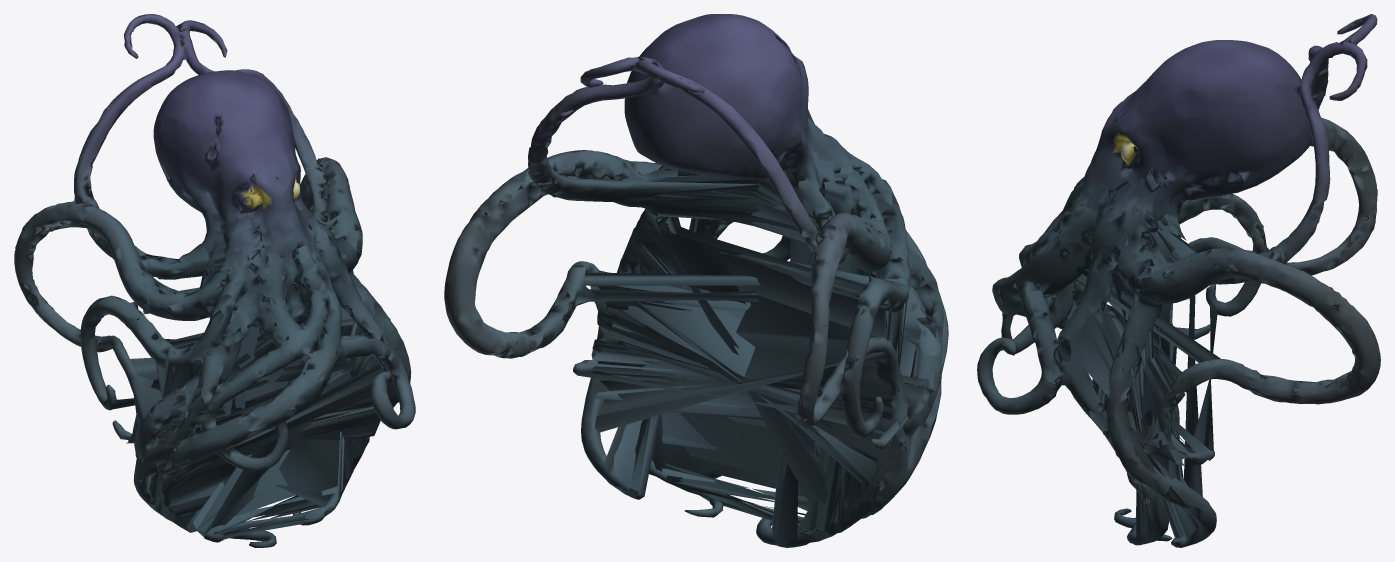
File: kraken.glb
3 views of the same model, side by side, from view 1: azimuth 30°, elevation 25°; view 2: azimuth 150°, elevation 25°; view 3: azimuth 270°, elevation 25° (orthographic). The views are drawn at different scales.
Visible parts, largest first — view 1: Kraken; view 2: Kraken; view 3: Kraken.
Boxes of the visible parts, box(x1,y1,x2,y2) form: Kraken: box(14, 14, 415, 547); Kraken: box(444, 14, 948, 547); Kraken: box(977, 14, 1380, 547).
Bounding box in the file's own units: 2.8 × 3.99 × 2.9.
